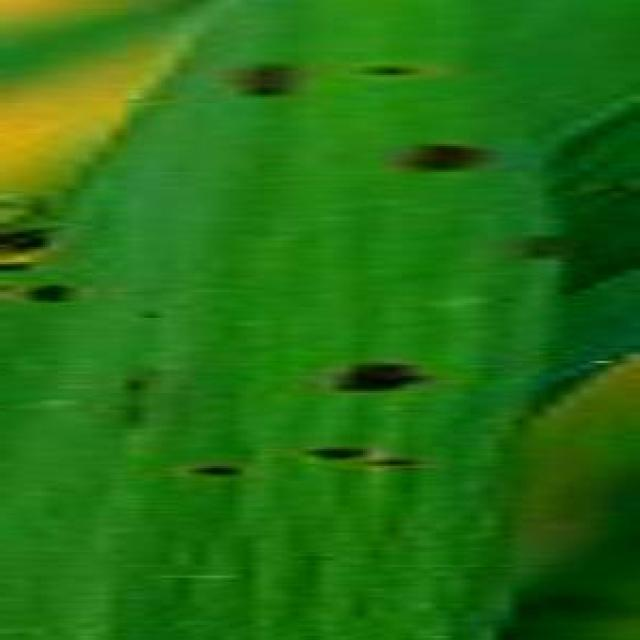Brown_Spot: (318, 342, 451, 406), (389, 126, 515, 184), (224, 43, 318, 118), (335, 47, 453, 88), (15, 264, 103, 318), (514, 219, 572, 273), (301, 434, 378, 468), (168, 453, 260, 481), (34, 483, 82, 533), (107, 393, 159, 434), (363, 449, 429, 477), (134, 294, 180, 324), (118, 369, 156, 393), (498, 286, 524, 308)
